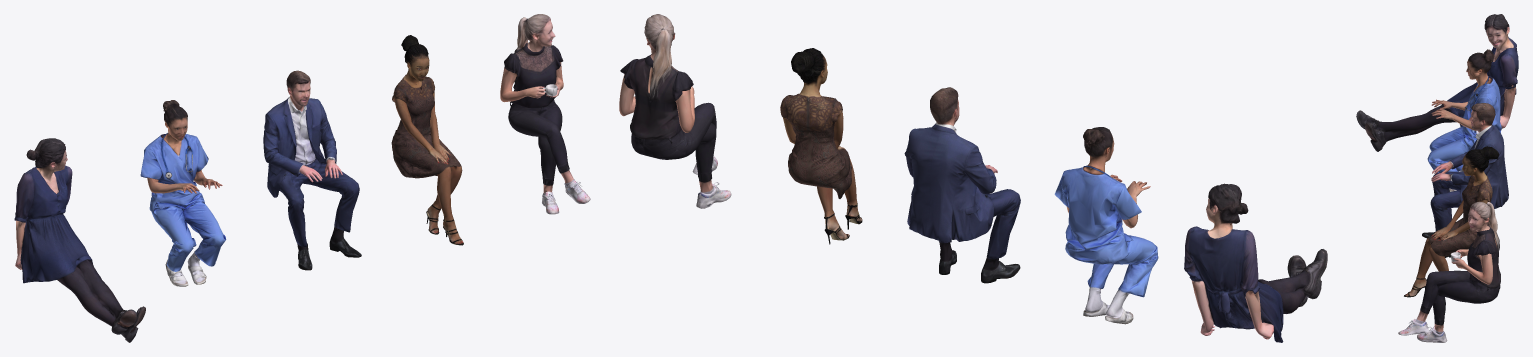
The model's file is people5s_lod1.glb.
3 views of the same model, side by side, from view 1: azimuth 30°, elevation 25°; view 2: azimuth 150°, elevation 25°; view 3: azimuth 270°, elevation 25° (orthographic). The views are drawn at different scales.
Visible parts, largest first — view 1: Sitting people x 5 11-001, Sitting people x 5 11-004_Sitting people x 5 11-004_0, Sitting people x 5 11-005_Sitting people x 5 11-005_0, Sitting people x 5 11-002, Sitting people x 5 11-003; view 2: Sitting people x 5 11-004_Sitting people x 5 11-004_0, Sitting people x 5 11-001, Sitting people x 5 11-005_Sitting people x 5 11-005_0, Sitting people x 5 11-002, Sitting people x 5 11-003; view 3: Sitting people x 5 11-002, Sitting people x 5 11-001, Sitting people x 5 11-004_Sitting people x 5 11-004_0, Sitting people x 5 11-003, Sitting people x 5 11-005_Sitting people x 5 11-005_0.
Boxes of the visible parts, x1,y1,x2,y2 form: Sitting people x 5 11-001: (14,138,145,342); Sitting people x 5 11-004_Sitting people x 5 11-004_0: (263,70,361,270); Sitting people x 5 11-005_Sitting people x 5 11-005_0: (140,100,226,286); Sitting people x 5 11-002: (500,14,590,214); Sitting people x 5 11-003: (391,35,463,245); Sitting people x 5 11-004_Sitting people x 5 11-004_0: (904,87,1020,283); Sitting people x 5 11-001: (1184,183,1327,342); Sitting people x 5 11-005_Sitting people x 5 11-005_0: (1054,127,1158,324); Sitting people x 5 11-002: (619,14,731,208); Sitting people x 5 11-003: (780,48,862,244); Sitting people x 5 11-002: (1398,201,1500,342); Sitting people x 5 11-001: (1356,14,1518,151); Sitting people x 5 11-004_Sitting people x 5 11-004_0: (1422,103,1508,257); Sitting people x 5 11-003: (1404,146,1498,297); Sitting people x 5 11-005_Sitting people x 5 11-005_0: (1427,49,1501,191).
Size of the model in its own units: 4.39 by 1.34 by 1.33.
5 materials, 5 textured.
